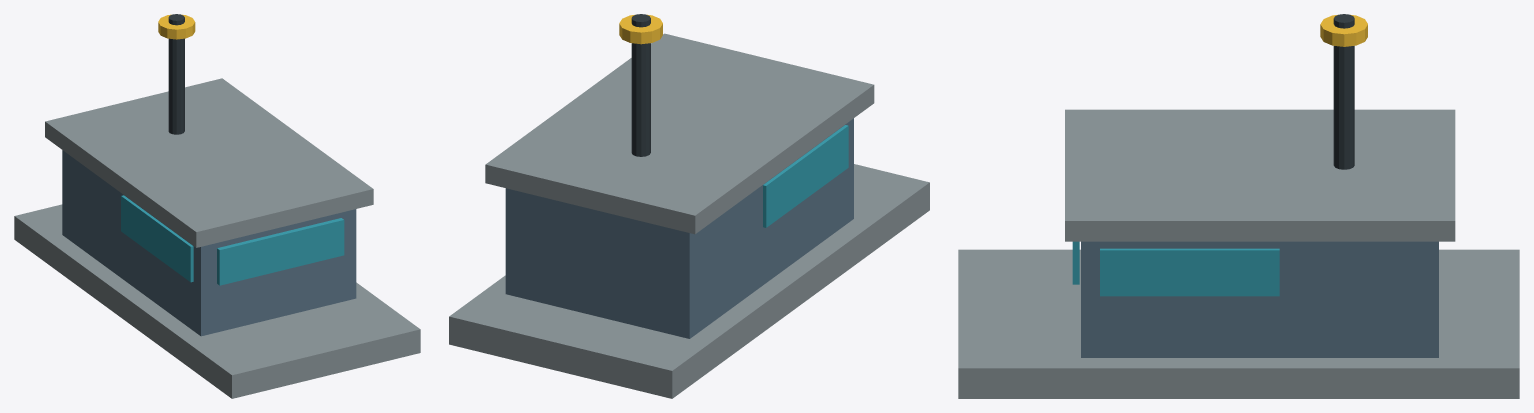
The model's file is MOD_Bridge.glb.
3 renders of one model, left to right at view 1: azimuth 30°, elevation 25°; view 2: azimuth 150°, elevation 25°; view 3: azimuth 270°, elevation 25°, orthographic. The views are drawn at different scales.
Parts seen in each view (by area): view 1: BridgeRoof, BridgeDeck, BridgeSuperstructure, ForwardWindow, PortWindow, Mast, MastSensor; view 2: BridgeRoof, BridgeSuperstructure, BridgeDeck, PortWindow, Mast, MastSensor; view 3: BridgeRoof, BridgeDeck, BridgeSuperstructure, StarboardWindow, Mast, MastSensor.
Boxes of the visible parts, left/top/right/bottom form: BridgeRoof: left=45, top=78, right=373, bottom=247; BridgeDeck: left=14, top=204, right=420, bottom=398; BridgeSuperstructure: left=62, top=150, right=356, bottom=336; ForwardWindow: left=217, top=218, right=344, bottom=285; PortWindow: left=121, top=195, right=193, bottom=282; Mast: left=168, top=14, right=184, bottom=134; MastSensor: left=158, top=14, right=195, bottom=39; BridgeRoof: left=485, top=33, right=874, bottom=234; BridgeSuperstructure: left=505, top=118, right=853, bottom=338; BridgeDeck: left=449, top=164, right=929, bottom=398; PortWindow: left=763, top=125, right=848, bottom=227; Mast: left=631, top=14, right=650, bottom=156; MastSensor: left=619, top=14, right=662, bottom=44; BridgeRoof: left=1065, top=109, right=1455, bottom=241; BridgeDeck: left=958, top=249, right=1519, bottom=398; BridgeSuperstructure: left=1081, top=241, right=1438, bottom=357; StarboardWindow: left=1100, top=248, right=1279, bottom=296; Mast: left=1333, top=14, right=1354, bottom=169; MastSensor: left=1320, top=14, right=1367, bottom=46.
Size of the model in its own units: 2 by 2.52 by 4.
